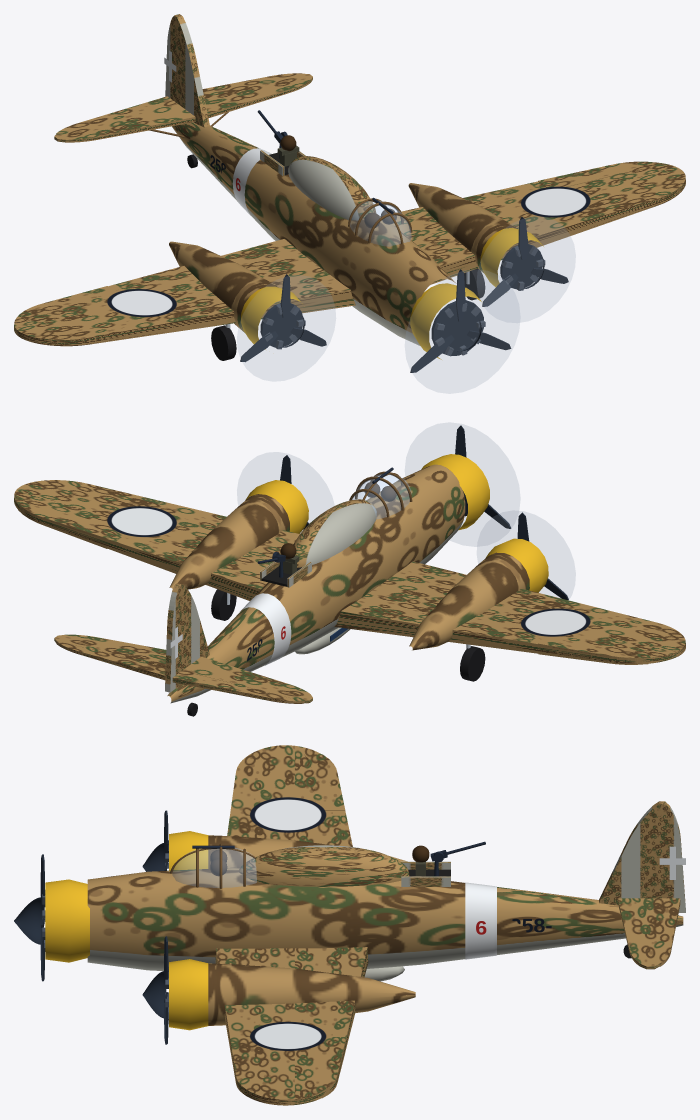
3 renders of one model, top to bottom at view 1: azimuth 30°, elevation 25°; view 2: azimuth 150°, elevation 25°; view 3: azimuth 270°, elevation 25°, orthographic. The views are drawn at different scales.
Parts seen in each view (by area): view 1: n1, n39, PropBlur0, n65, n61, n87, n69, n43, n3, n99, n94, n100 (+16 smaller); view 2: n1, n39, n65, PropBlur0, n43, n69, n3, n61, n87, n99, n27, n63 (+14 smaller); view 3: n1, n65, n69, n39, n3, n94, n27, n70, n4, n100, n2, n41 (+10 smaller).
Part boxes in pixels (x1=…): n1: x1=172, y1=122, x2=456, y2=345; n39: x1=14, y1=239, x2=355, y2=346; PropBlur0: x1=405, y1=270, x2=519, y2=393; n65: x1=392, y1=162, x2=685, y2=284; n61: x1=237, y1=275, x2=335, y2=380; n87: x1=477, y1=217, x2=575, y2=322; n69: x1=408, y1=183, x2=518, y2=272; n43: x1=169, y1=241, x2=278, y2=332; n3: x1=288, y1=156, x2=375, y2=220; n99: x1=54, y1=103, x2=195, y2=142; n94: x1=176, y1=16, x2=209, y2=127; n100: x1=204, y1=73, x2=312, y2=117; n1: x1=167, y1=464, x2=465, y2=703; n39: x1=334, y1=561, x2=685, y2=664; n65: x1=14, y1=480, x2=299, y2=600; PropBlur0: x1=405, y1=423, x2=519, y2=546; n43: x1=409, y1=552, x2=529, y2=650; n69: x1=169, y1=494, x2=289, y2=589; n3: x1=293, y1=499, x2=376, y2=567; n61: x1=477, y1=511, x2=575, y2=598; n87: x1=237, y1=452, x2=334, y2=522; n99: x1=182, y1=656, x2=312, y2=703; n27: x1=421, y1=454, x2=489, y2=530; n63: x1=538, y1=636, x2=655, y2=664; n1: x1=87, y1=867, x2=683, y2=970; n65: x1=215, y1=947, x2=368, y2=1105; n69: x1=208, y1=963, x2=415, y2=1025; n39: x1=227, y1=745, x2=352, y2=846; n3: x1=239, y1=845, x2=409, y2=886; n94: x1=599, y1=801, x2=659, y2=905; n27: x1=45, y1=879, x2=89, y2=962; n70: x1=169, y1=959, x2=208, y2=1030; n4: x1=172, y1=848, x2=256, y2=887; n100: x1=618, y1=898, x2=659, y2=969; n2: x1=465, y1=882, x2=496, y2=959; n41: x1=250, y1=797, x2=326, y2=832.
Bounding box in the file's own units: 15.99 × 4.35 × 12.8.
Materials: 30 (6 with a texture image).
